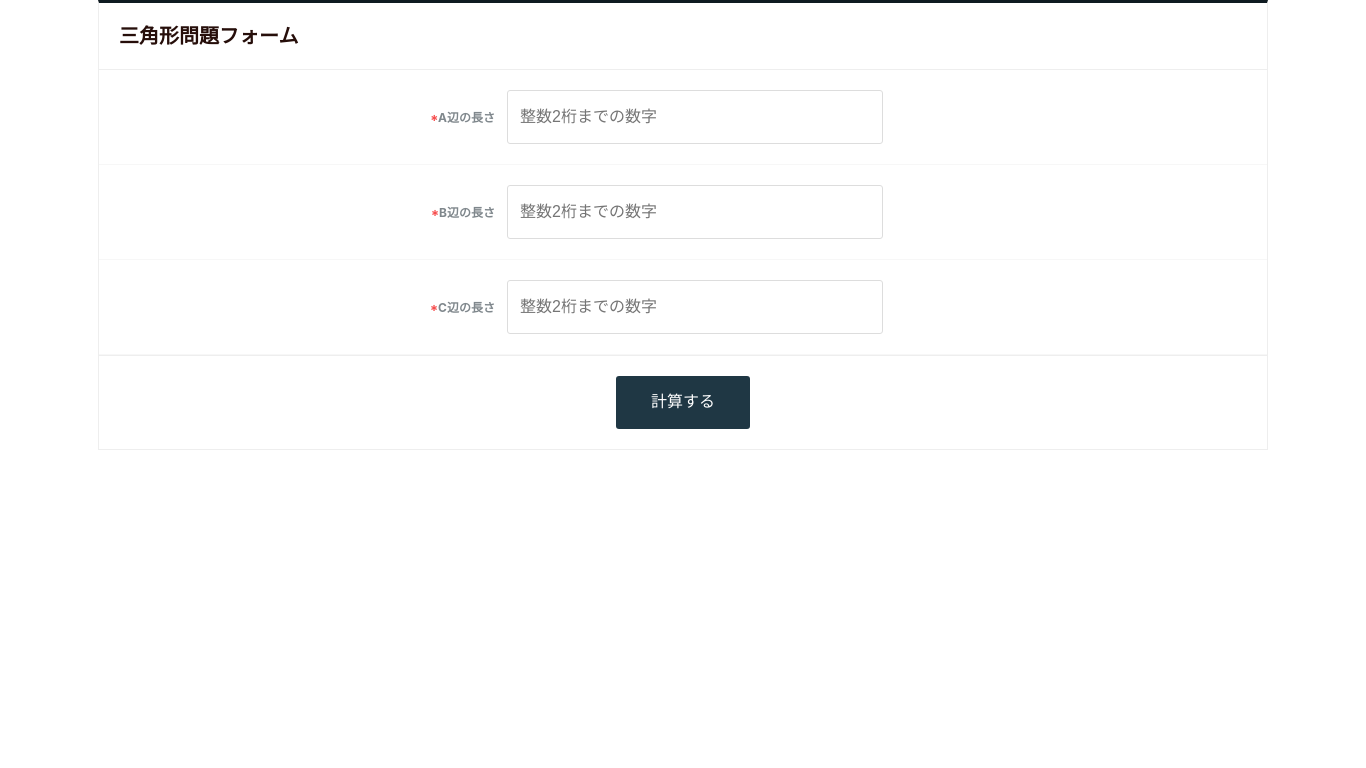
判定条件不備あり › 2つの辺の長さが等しい場合、二等辺三角形と表示されること
Type "1" into the field with id "length_a" at (695, 117), box [507, 90, 883, 144]
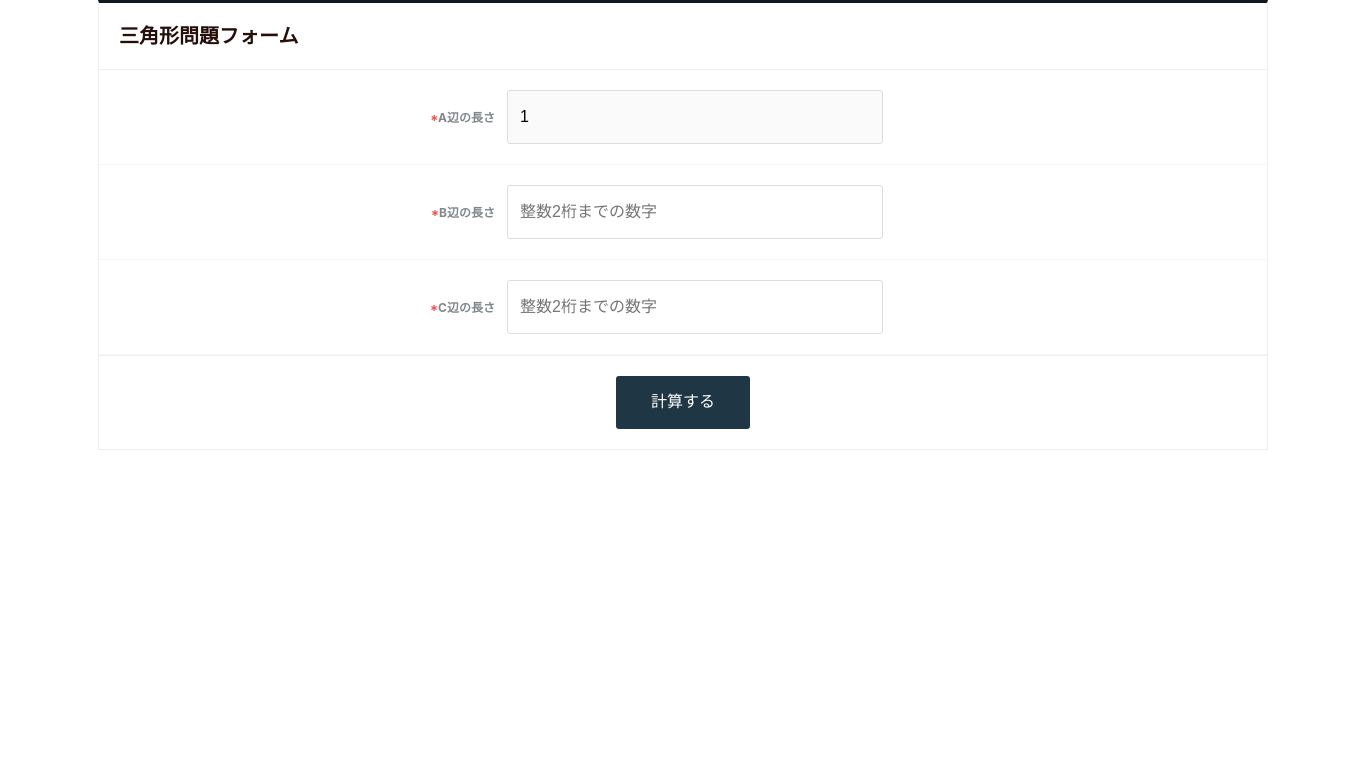
Type "2" into the field with id "length_b" at (695, 212), box [507, 185, 883, 239]
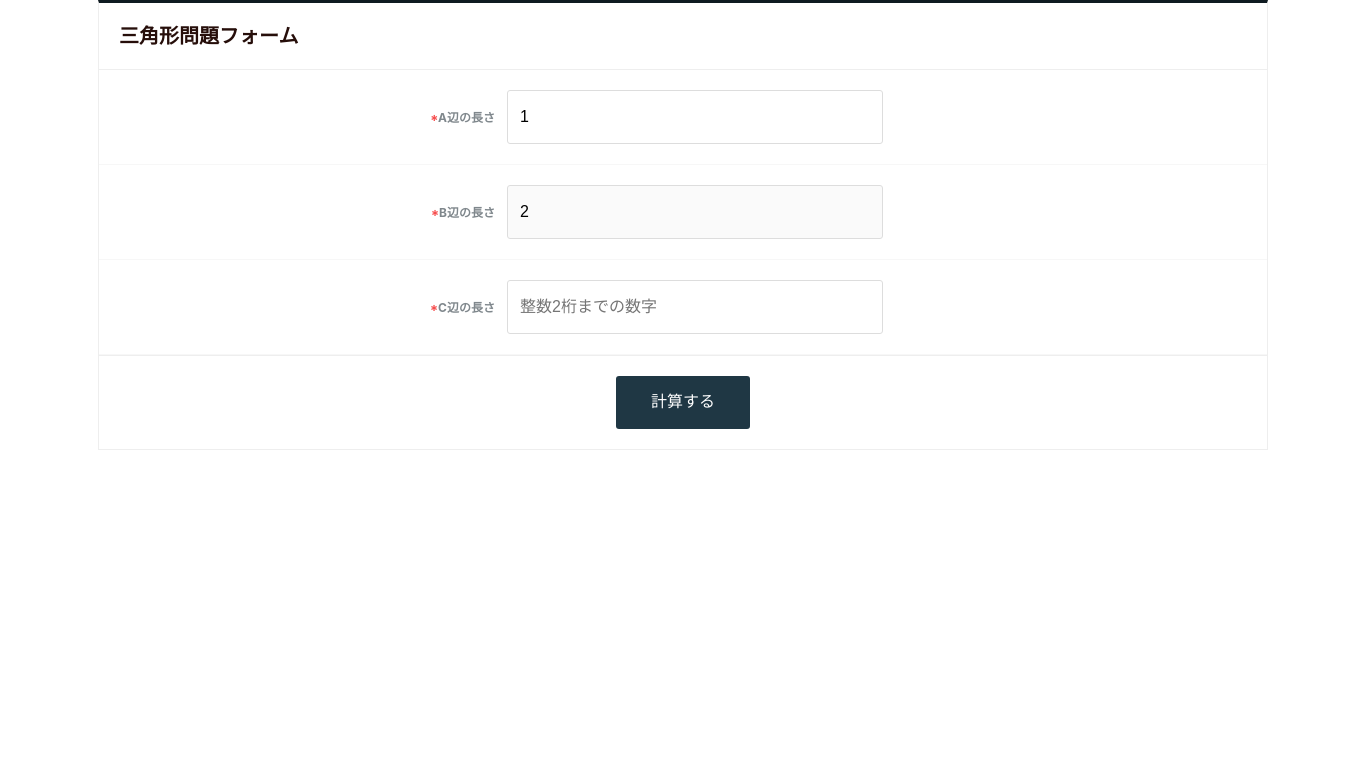
Type "2" into the field with id "length_c" at (695, 307), box [507, 280, 883, 334]
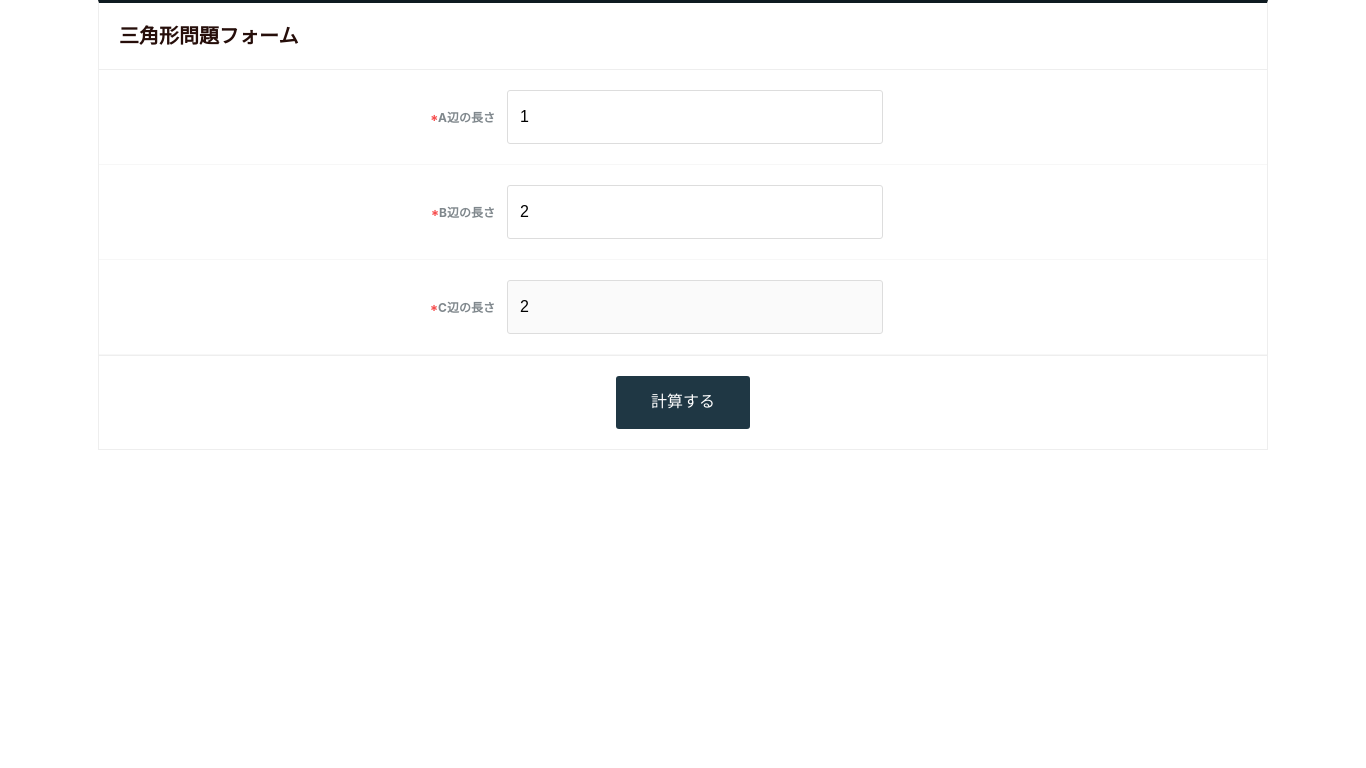
Submit the form, box [99, 70, 1267, 449]
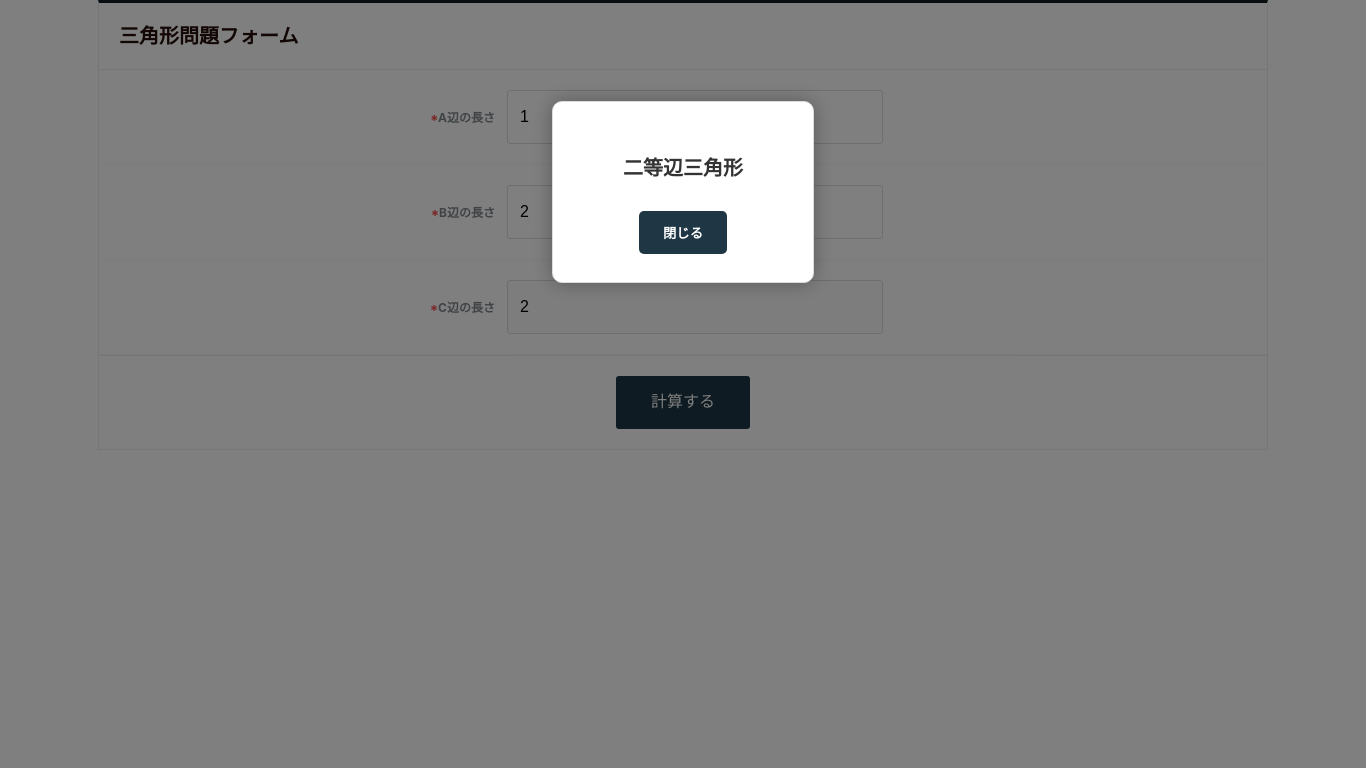
Result: the text with id "modal-message" reads "二等辺三角形" at [623, 156, 743, 180]
